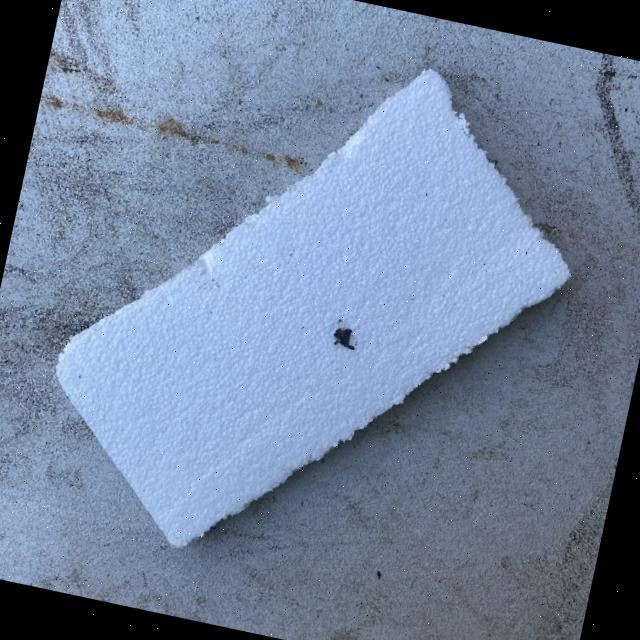styrofoam: (21, 1, 608, 616)
